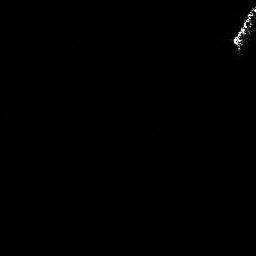ship: (231, 5, 256, 56)
